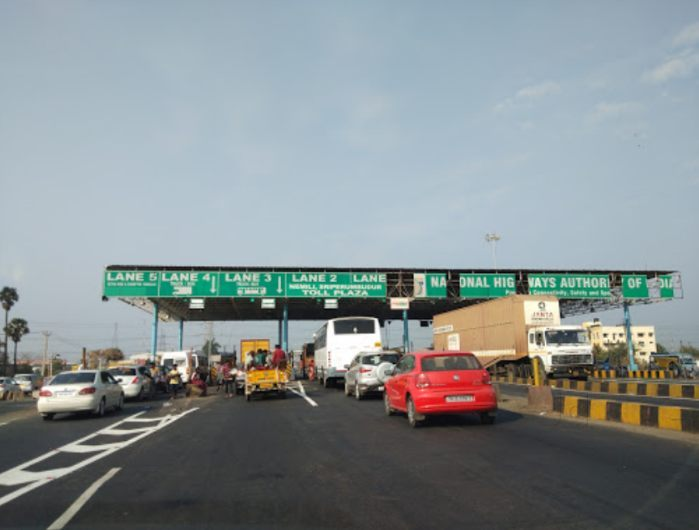toll plaza: (99, 255, 691, 303)
